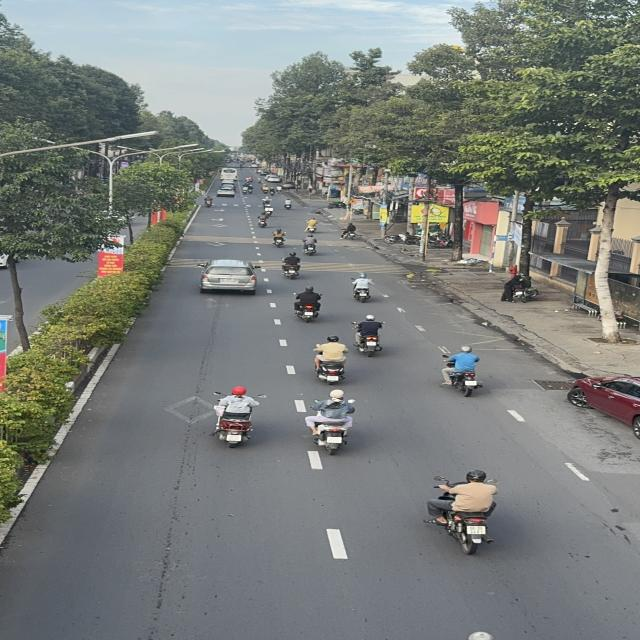car: (564, 369, 640, 440), (195, 253, 267, 297), (218, 164, 242, 184), (212, 186, 238, 199)
motobyte: (422, 465, 506, 558), (204, 382, 270, 449), (303, 385, 361, 459), (434, 344, 491, 398), (307, 331, 354, 385), (350, 312, 390, 358), (289, 282, 328, 324), (347, 270, 379, 304), (276, 248, 310, 280), (300, 232, 325, 258), (266, 225, 290, 250), (338, 220, 362, 241), (254, 210, 275, 230), (305, 214, 321, 236), (201, 192, 219, 210), (282, 196, 298, 213)
